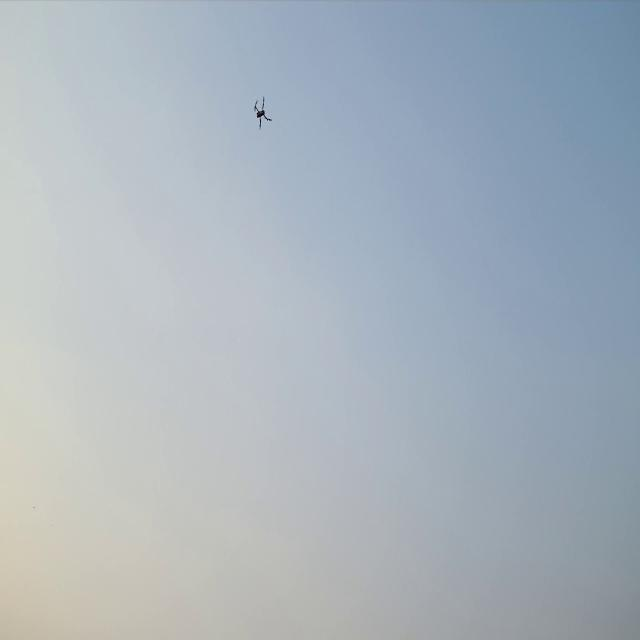UAV: (252, 94, 274, 130)
